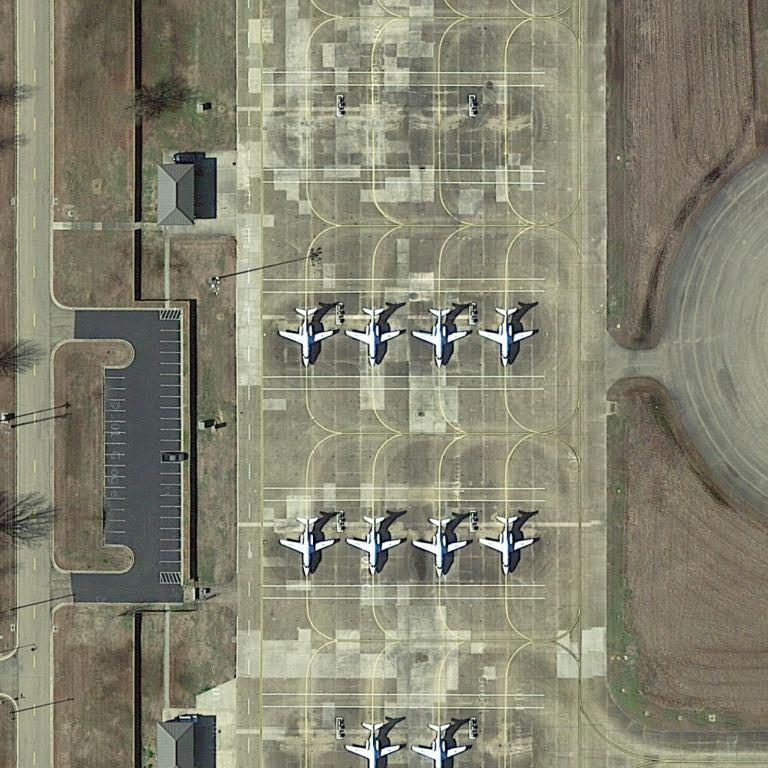plane: (279, 511, 340, 580), (279, 303, 338, 371), (412, 301, 469, 370), (345, 511, 403, 575), (412, 516, 468, 581), (480, 513, 534, 580), (481, 303, 534, 371), (346, 305, 402, 368), (345, 715, 405, 768), (413, 716, 472, 768)
